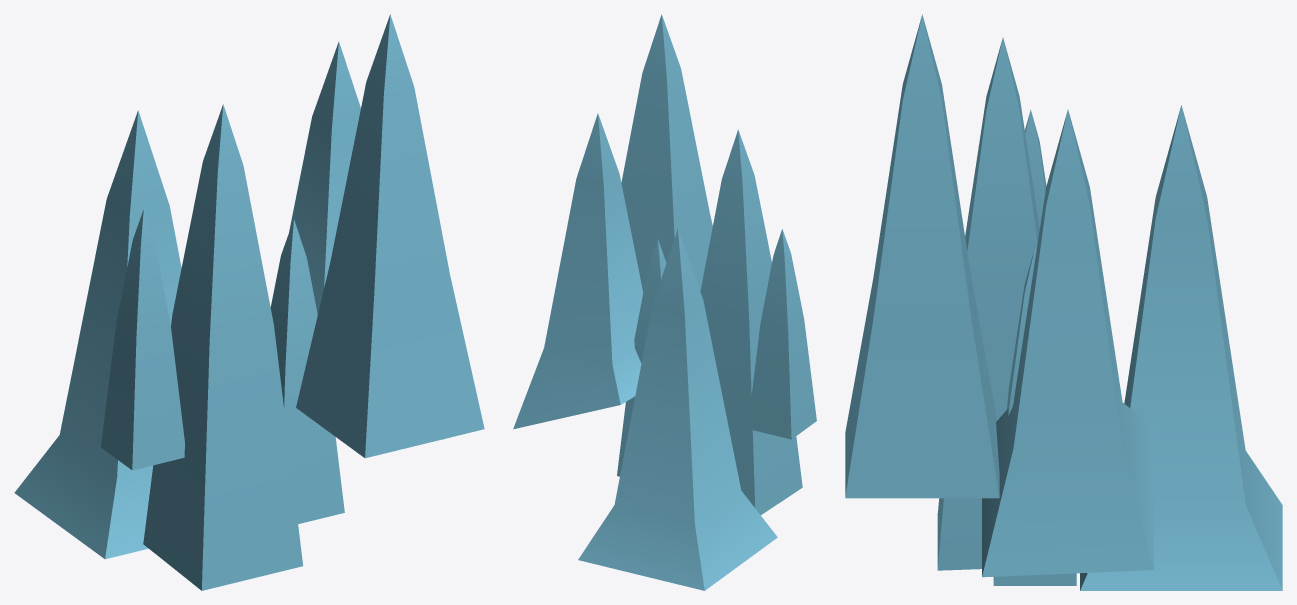
The model's file is Tempanos de hielo.fbx.
3 renders of one model, left to right at view 1: azimuth 30°, elevation 25°; view 2: azimuth 150°, elevation 25°; view 3: azimuth 270°, elevation 25°, orthographic. The views are drawn at different scales.
Parts seen in each view (by area): view 1: Ice; view 2: Ice; view 3: Ice.
Boxes of the visible parts, box(x1,y1,x2,y2) form: Ice: box(14, 14, 484, 590); Ice: box(513, 14, 816, 590); Ice: box(845, 14, 1282, 590).
Size of the model in its own units: 14.11 by 24.02 by 15.66.
